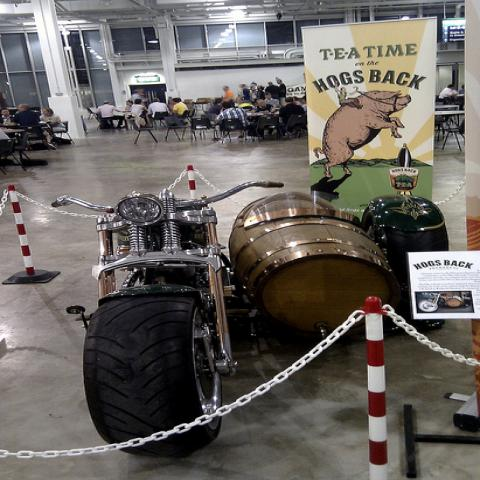motorcycle: (55, 180, 289, 459)
